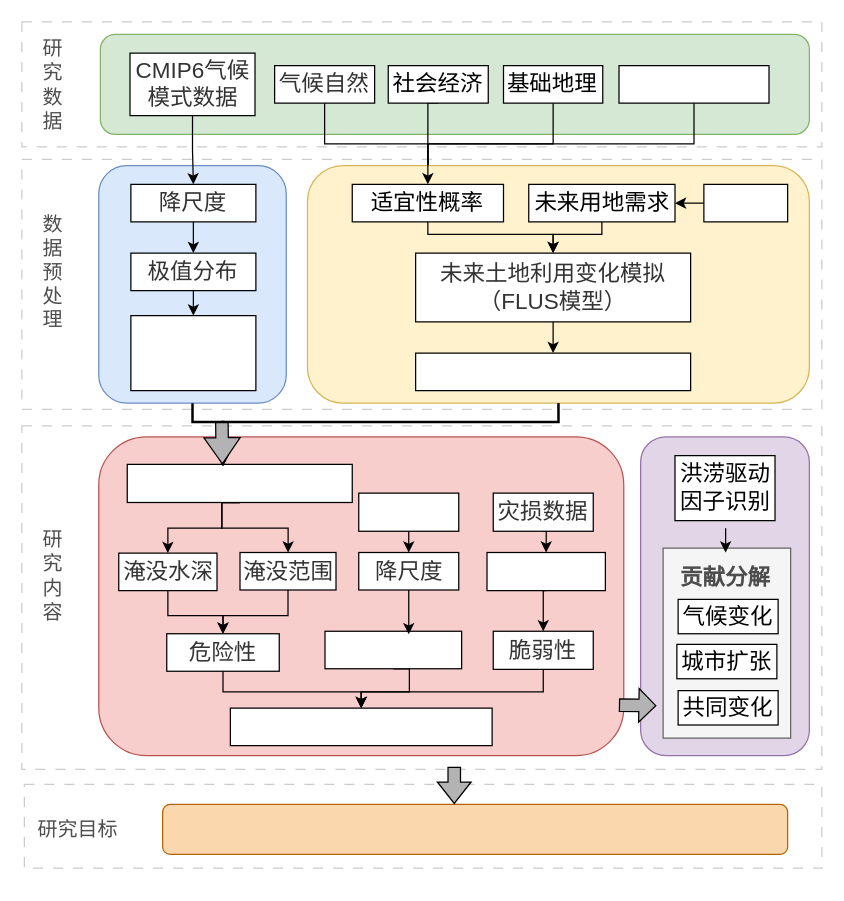
This 844x901 diagram has some shape labels left out. The centre of each missing label's shape, as x and y in pixels:
LUH2: (x=745, y=202)
SSPs土地利用变化: (x=552, y=371)
不同重现期的小时降水: (x=193, y=352)
历史土地利用: (x=693, y=83)
未来GDP: (x=408, y=511)
未来情景下城市洪涝 危险性变化与未来风险预估: (x=474, y=828)
水动力模型洪涝模拟: (x=239, y=482)
洪涝风险及时空演变特性: (x=360, y=726)
经济暴露度: (x=393, y=649)
脆弱性曲线: (x=545, y=571)
